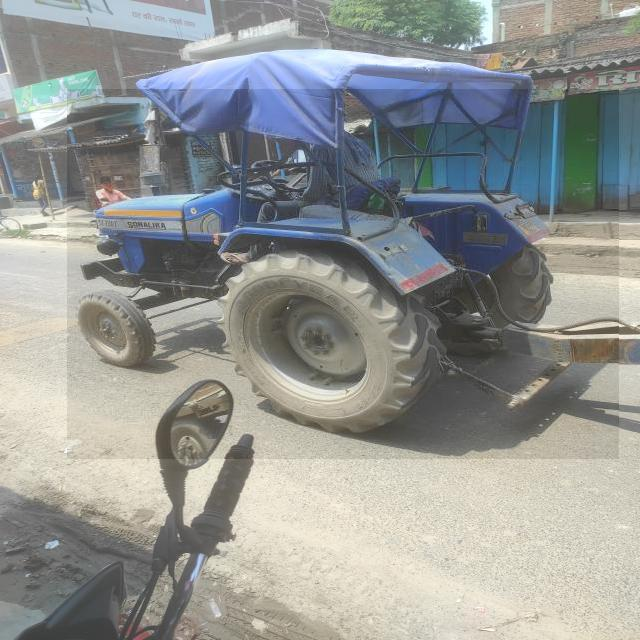Tractot: (68, 90, 620, 460)
